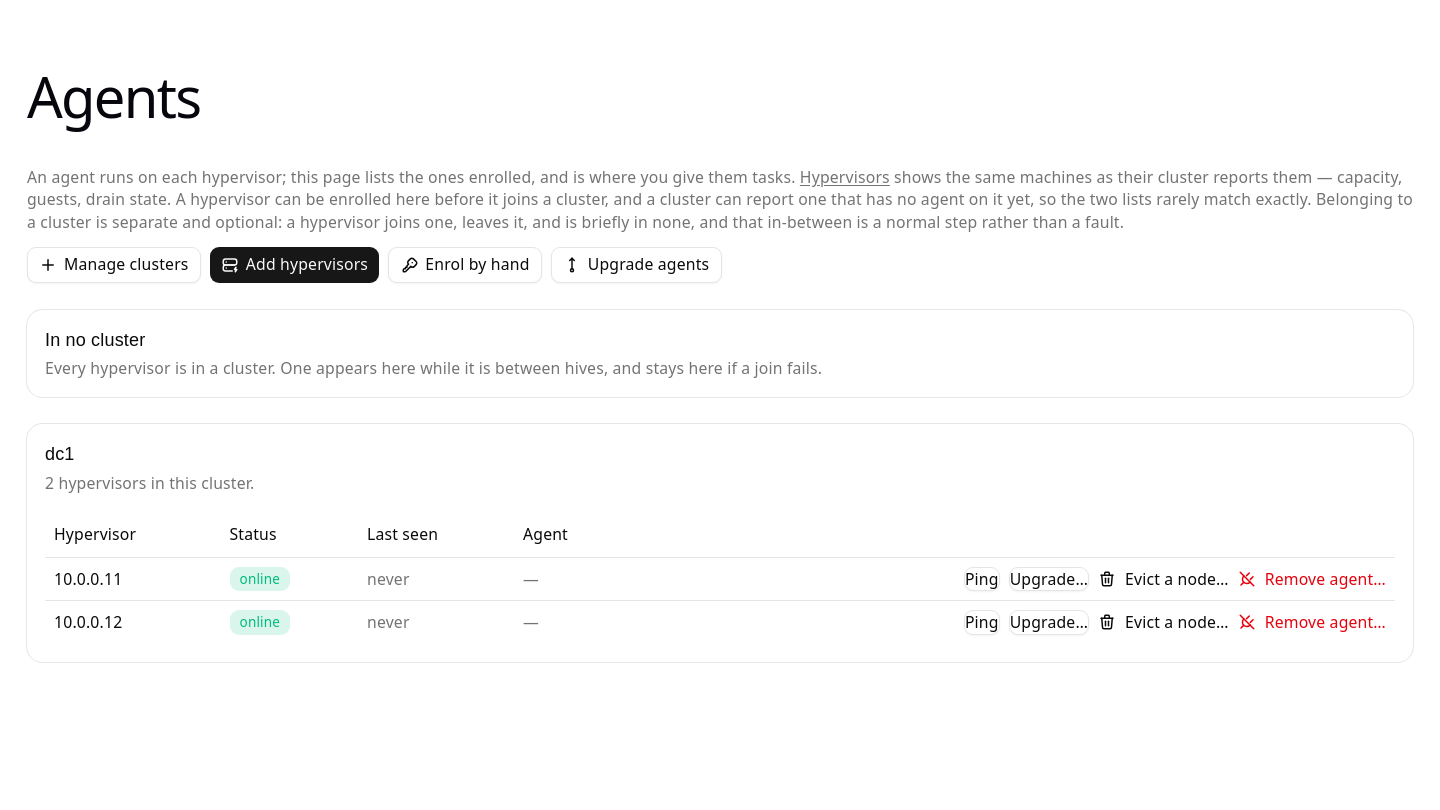
Test: Removing an agent › deletes the agent record and queues no task
This screenshot has width=1440, height=810.
Check: the text "10.0.0.11" is shown, box x1=54 y1=568 x2=122 y2=590
Click the button with aria-label "remove the agent on 10.0.0.11" at (1312, 579), box x1=1238 y1=567 x2=1386 y2=591
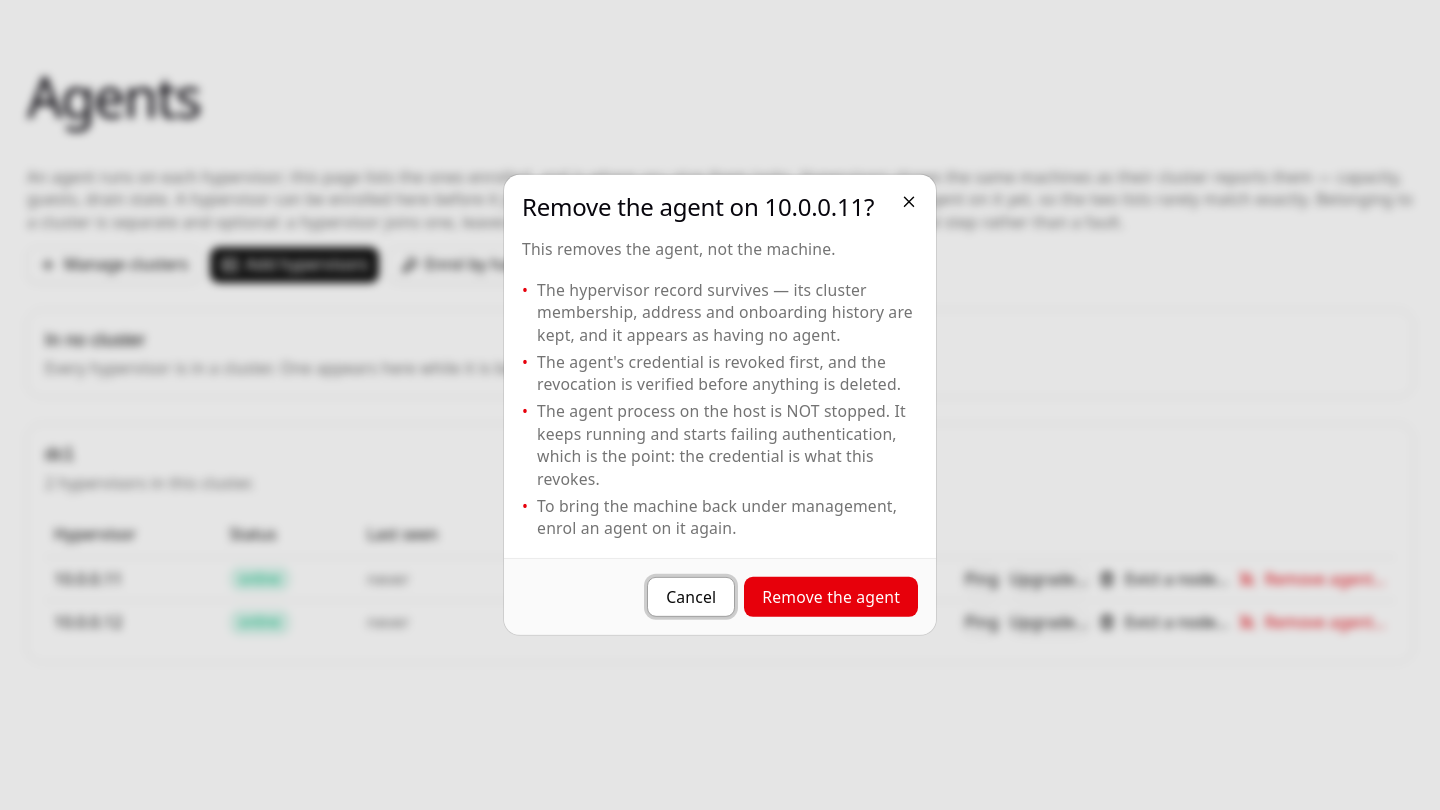
Check: the text "keeps running and starts failing authentication" is shown, box x1=537 y1=400 x2=906 y2=490
Click the button "Remove the agent" at (831, 597), box x1=744 y1=577 x2=918 y2=617
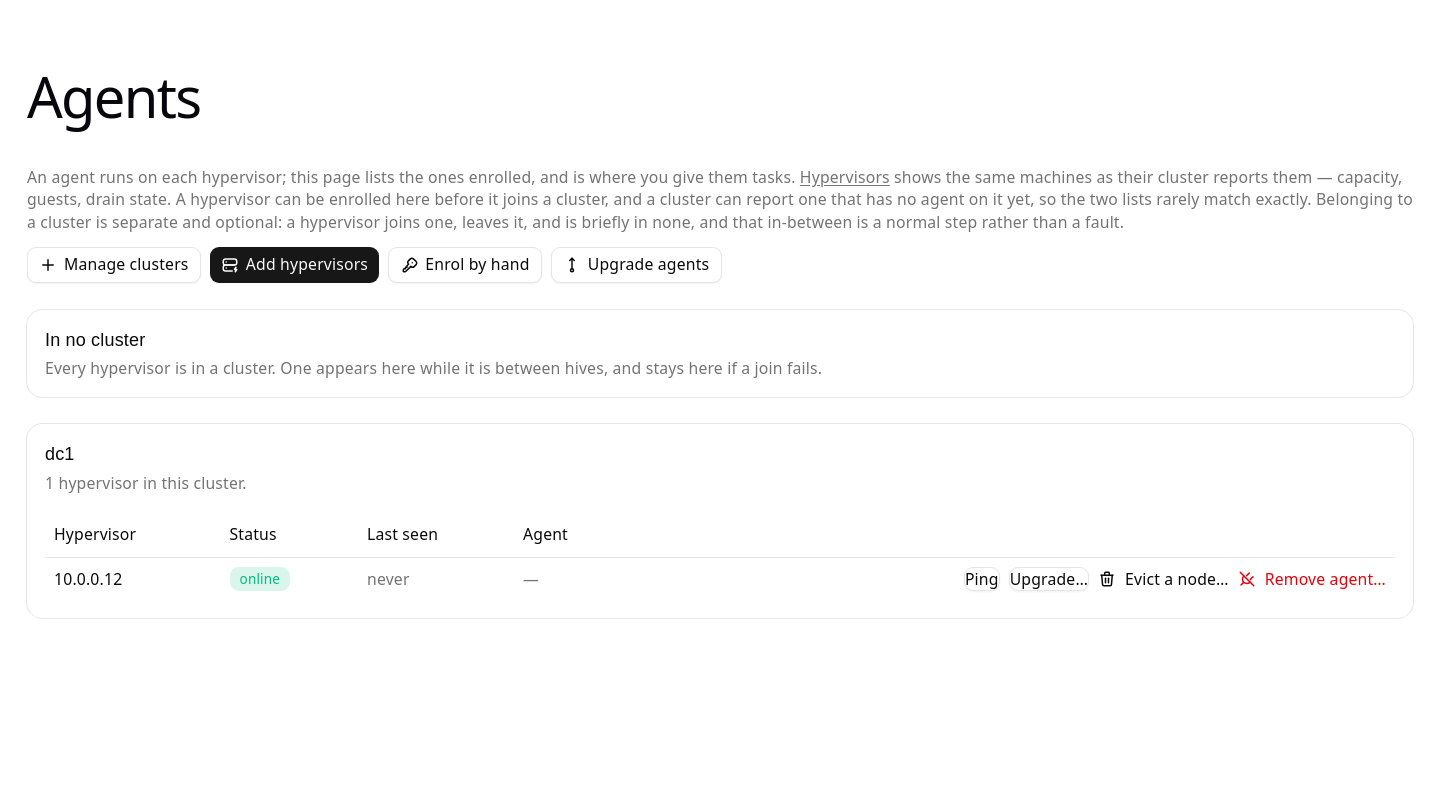
Check: the text "10.0.0.11" is gone
